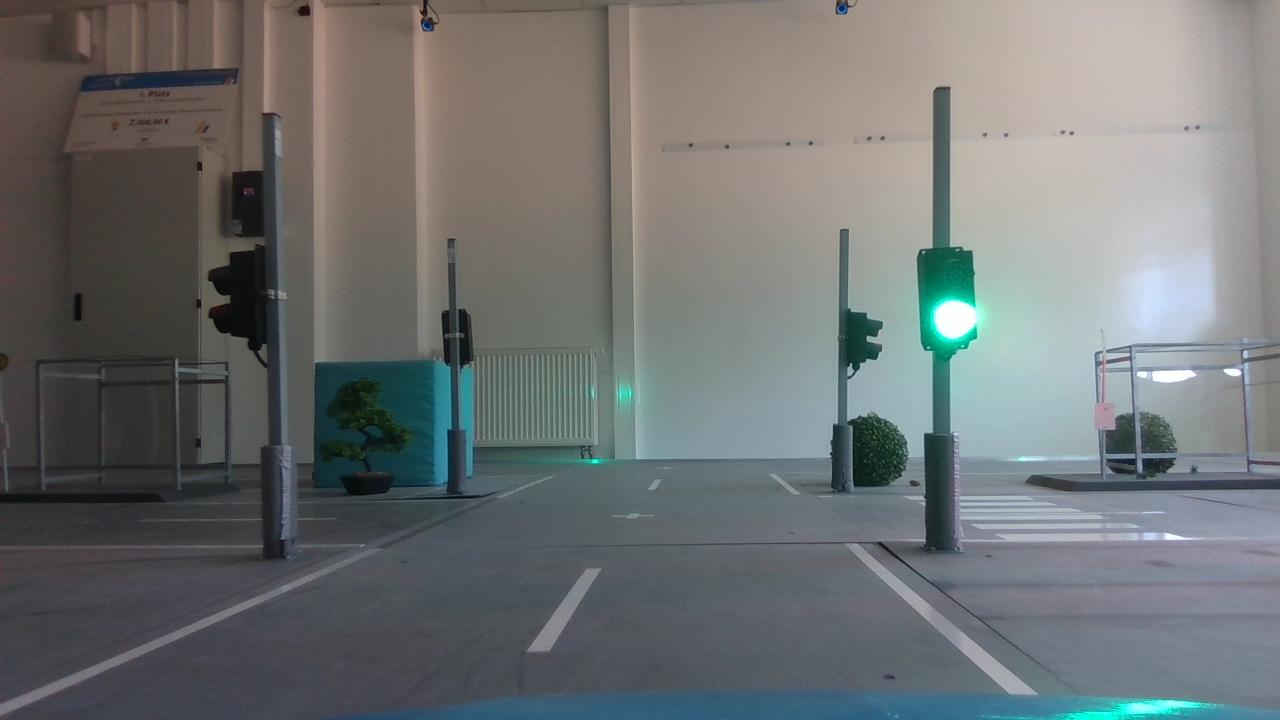traffic_light_green: (909, 241, 991, 361)
